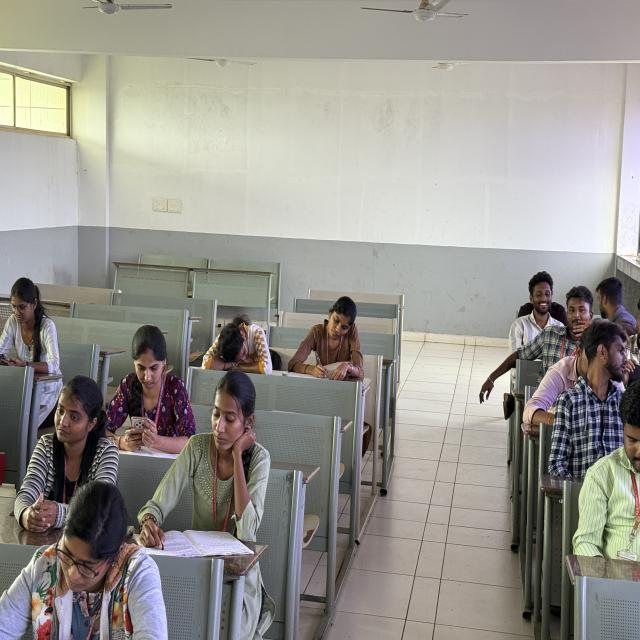Sleeping: (200, 310, 272, 380)
Using Phone: (99, 321, 205, 452)
Writing: (124, 372, 274, 558), (281, 292, 377, 378)
